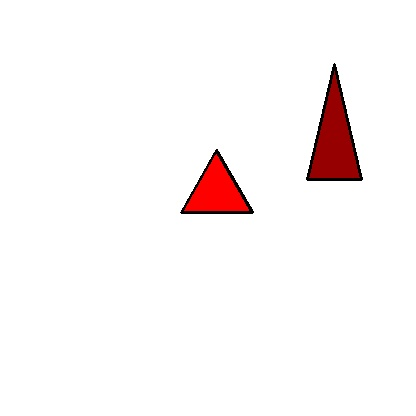triangle: (307, 64, 361, 179), (181, 150, 252, 212)
